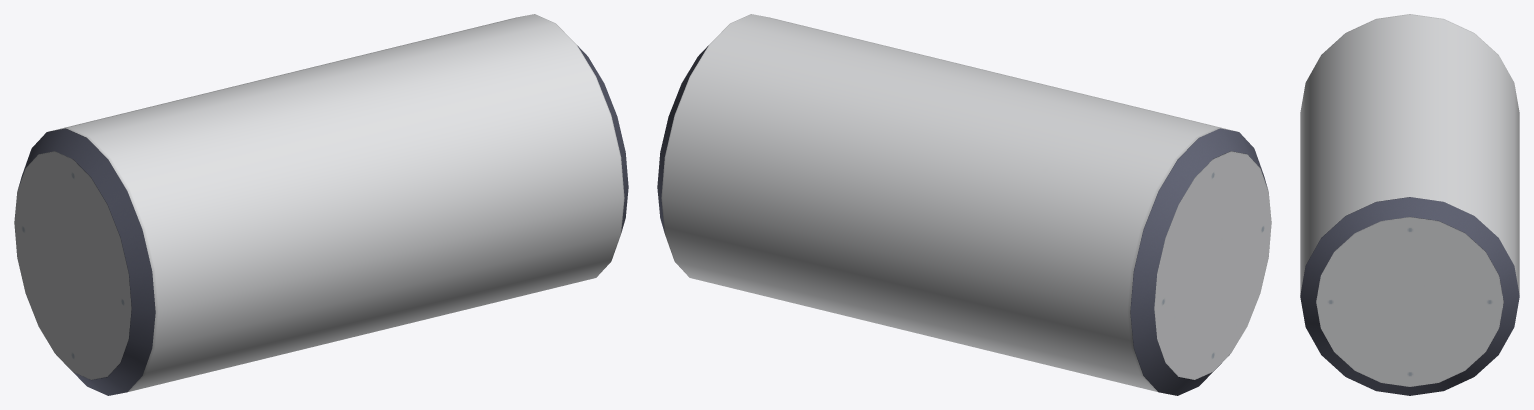
The model's file is Articulated_Axis_02.FBX.
3 renders of one model, left to right at view 1: azimuth 30°, elevation 25°; view 2: azimuth 150°, elevation 25°; view 3: azimuth 270°, elevation 25°, orthographic. The views are drawn at different scales.
Parts seen in each view (by area): view 1: Articulated_Axis_02; view 2: Articulated_Axis_02; view 3: Articulated_Axis_02.
Part boxes in pixels (<box>): Articulated_Axis_02: <box>14,14,628,395</box>; Articulated_Axis_02: <box>657,14,1271,395</box>; Articulated_Axis_02: <box>1300,14,1519,395</box>.
Bounding box in the file's own units: 2.83 × 1.35 × 1.35.
Materials: 3 (3 with a texture image).
